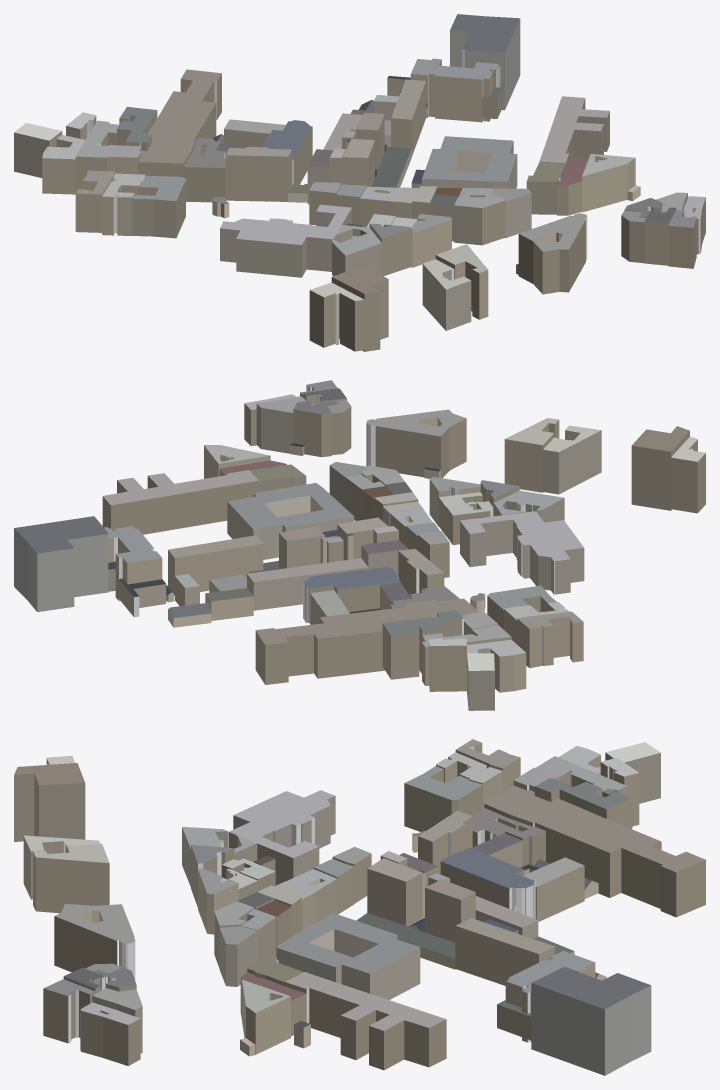
3 views of the same model, one above another, from view 1: azimuth 30°, elevation 25°; view 2: azimuth 150°, elevation 25°; view 3: azimuth 270°, elevation 25° (orthographic). The views are drawn at different scales.
Parts seen in each view (by area): view 1: tuile; view 2: tuile; view 3: tuile.
Boxes of the visible parts, x1=… form: tuile: x1=14, y1=14, x2=705, y2=351; tuile: x1=14, y1=380, x2=705, y2=710; tuile: x1=14, y1=739, x2=705, y2=1075.
Bounding box in the file's own units: 288 × 37.61 × 297.
